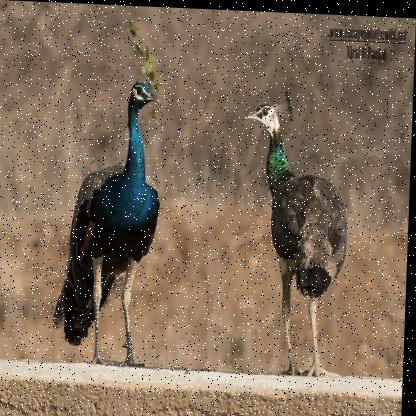Burung: (54, 80, 164, 366)
